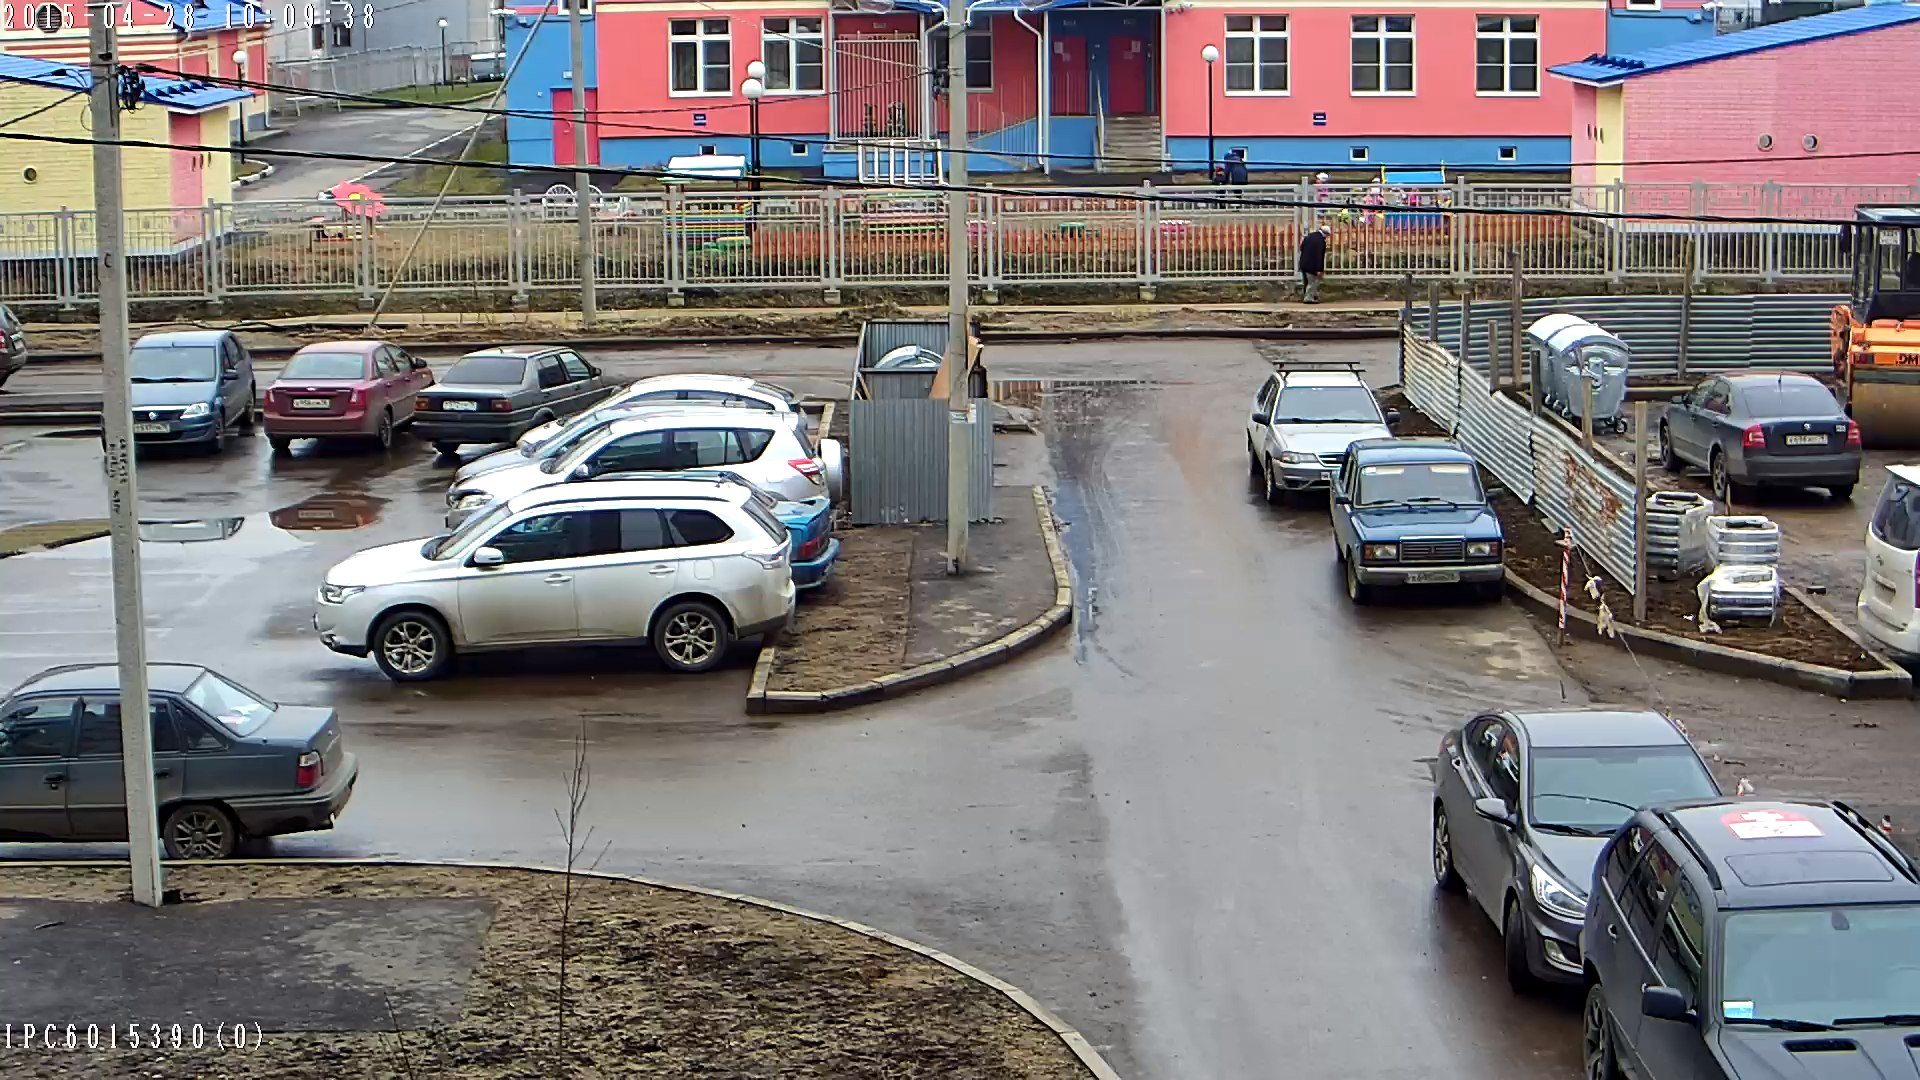Car: (314, 475, 796, 682), (1581, 800, 1920, 1080), (1429, 709, 1724, 990), (0, 661, 356, 862), (443, 409, 843, 530), (531, 472, 837, 589), (1329, 439, 1505, 604), (1658, 373, 1862, 501), (455, 398, 748, 480), (415, 345, 613, 456), (514, 372, 810, 446), (1832, 204, 1920, 443), (1246, 361, 1391, 502), (262, 342, 430, 456), (129, 330, 257, 451), (1855, 465, 1920, 665), (0, 305, 28, 388)
